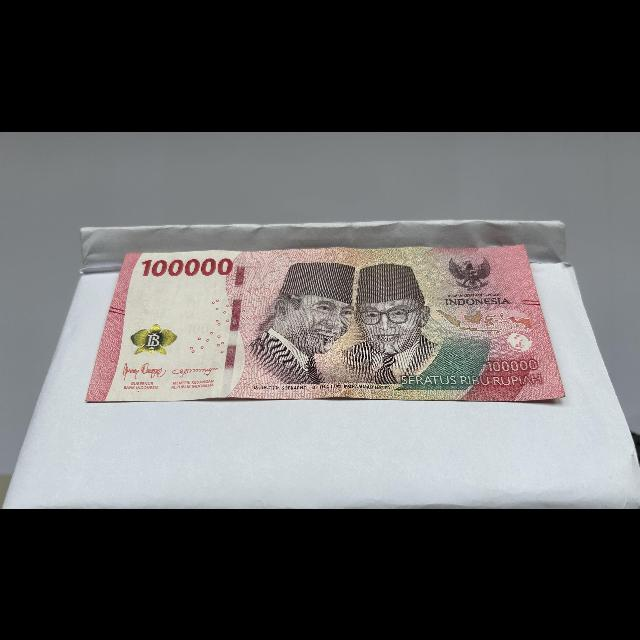Asli-100k: (81, 240, 571, 405)
Tinta-Asli-100k: (125, 322, 183, 356)
